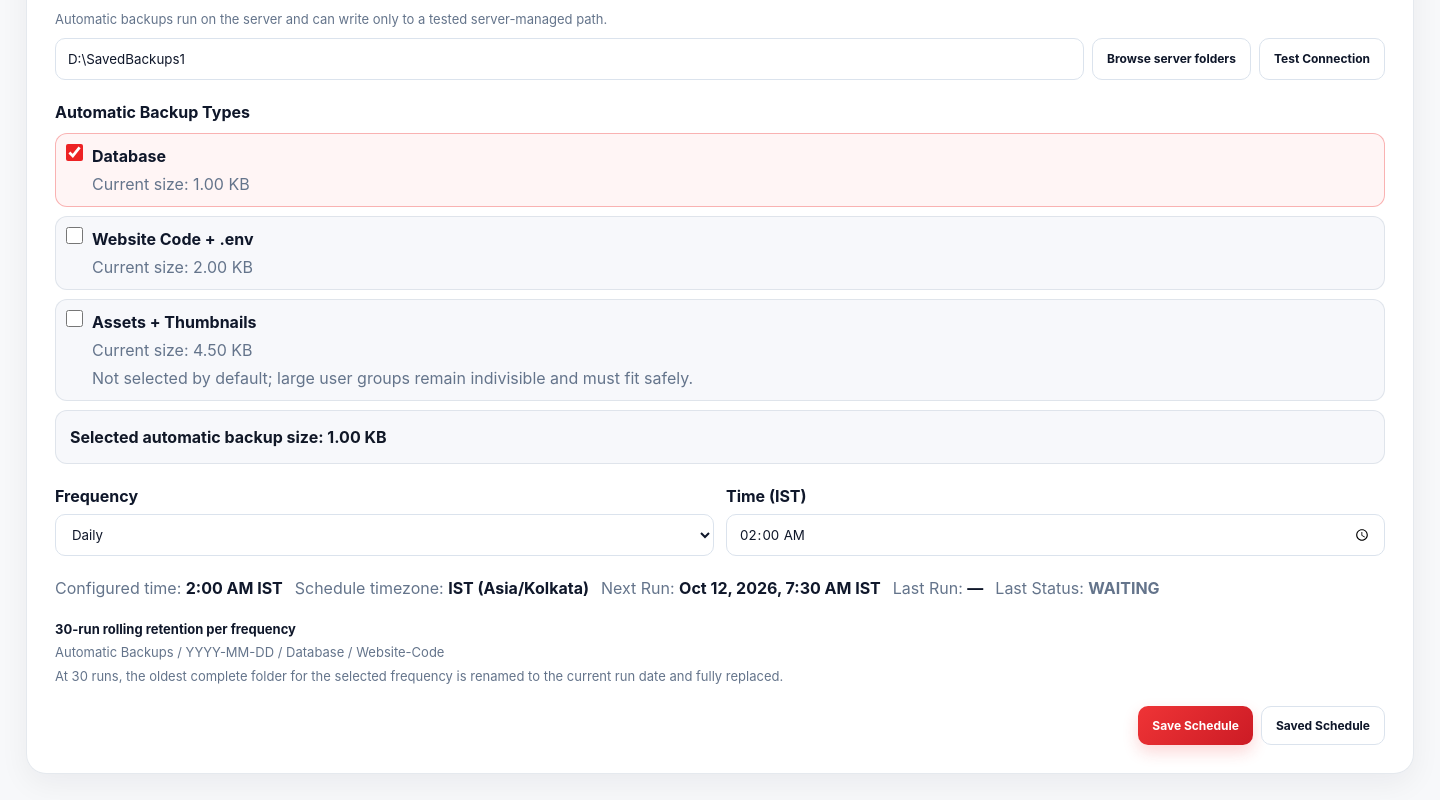
AdminBackupPage › Saved Schedule popup lists every live persisted schedule, not unsaved edits or run history
The image size is (1440, 800).
(page scrolled)
Expected: the button "Saved Schedule" is enabled, [1261,706,1385,745]
Select "Weekly" in the dropdown labelled "Frequency" at point(384, 535), box [55,514,714,556]
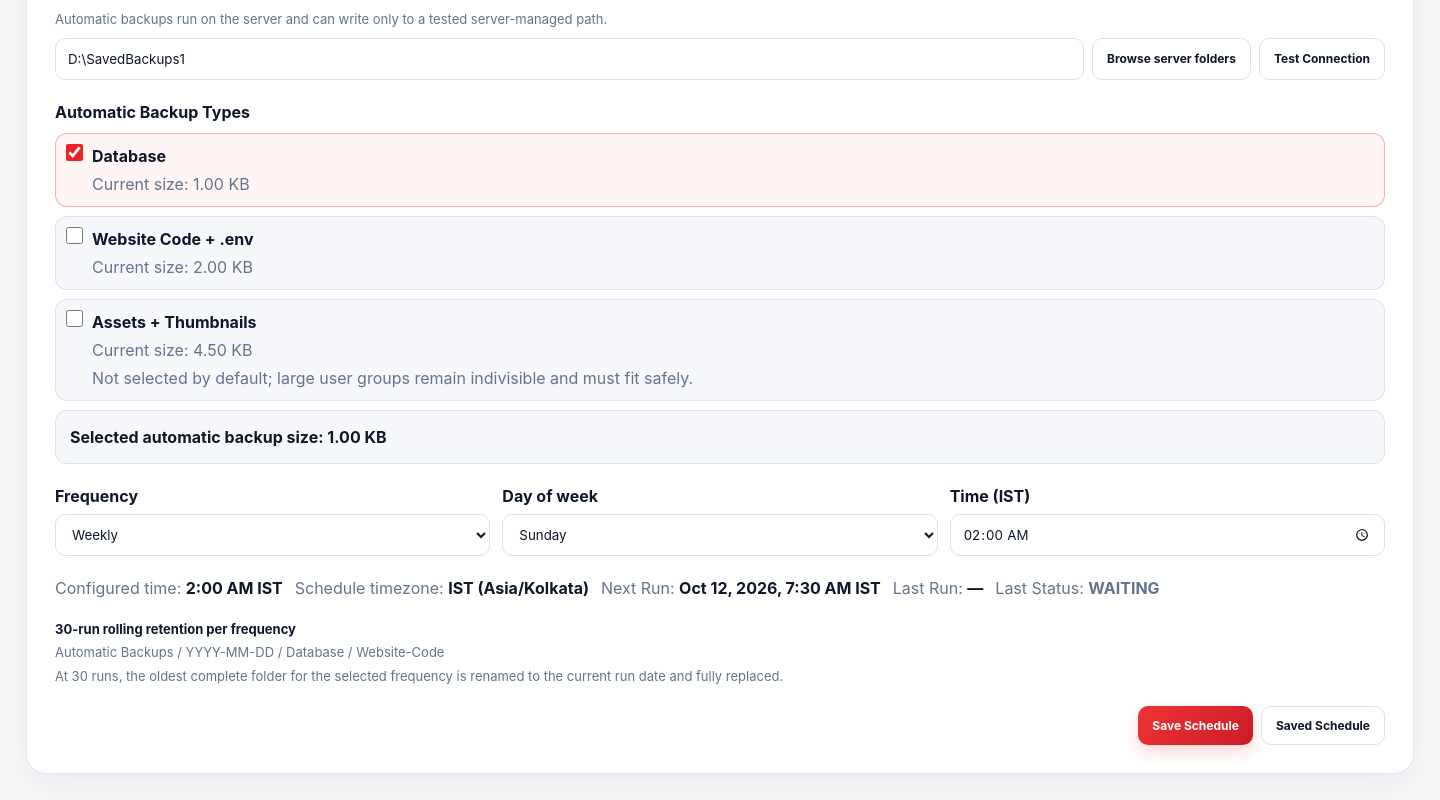
Click the button "Saved Schedule" at point(1323, 726), box [1261,706,1385,745]
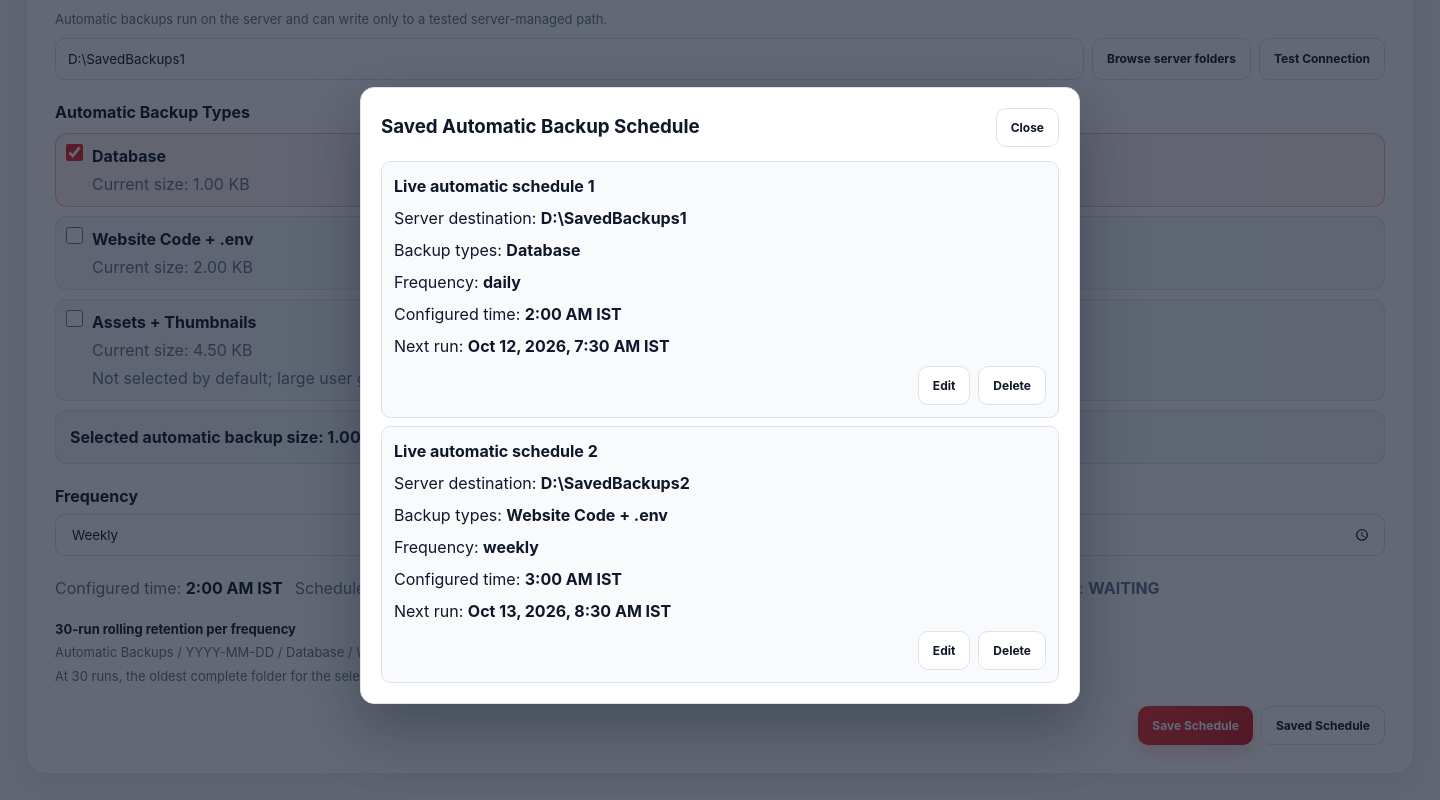
Result: the dialog "Saved Automatic Backup Schedule" shows "Live automatic schedule 1" at [360,86,1080,704]
Result: the dialog "Saved Automatic Backup Schedule" shows "Live automatic schedule 2" at [360,86,1080,704]
Result: the dialog "Saved Automatic Backup Schedule" shows "Frequency: daily" at [360,86,1080,704]
Click the button with aria-label "Close saved schedules" at point(1027, 127), box [996,108,1059,146]
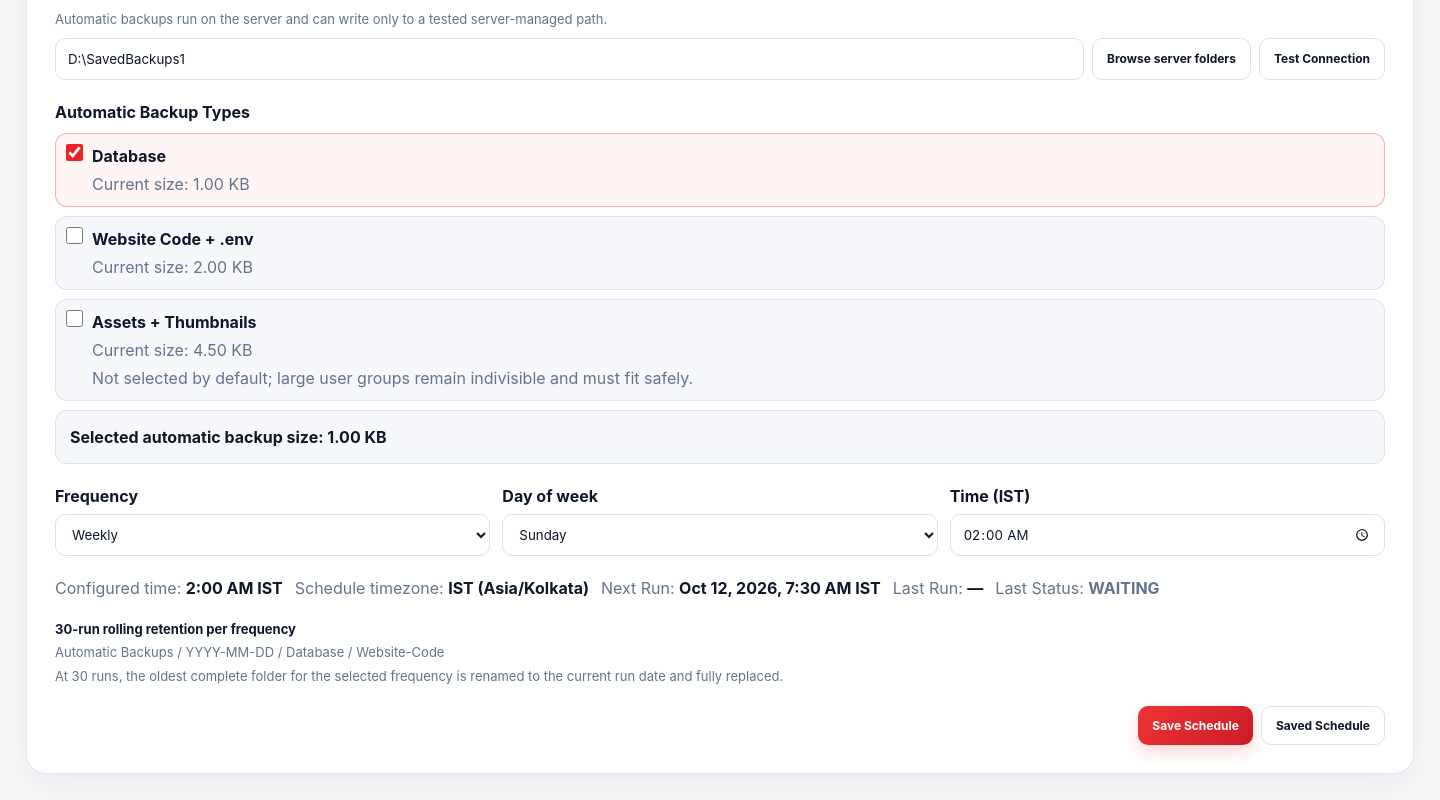
Result: the heading "Saved Automatic Backup Schedule" is gone
Result: the button "Saved Schedule" is collapsed at [1261,706,1385,745]
